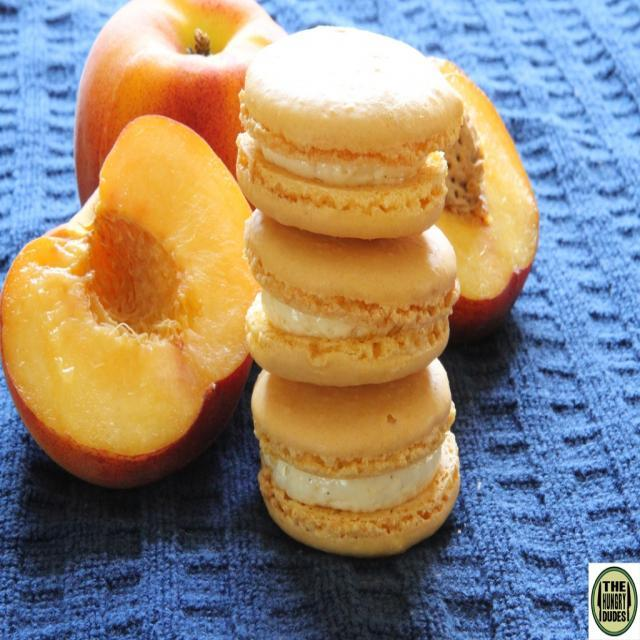Peach: (0, 112, 252, 492), (74, 0, 288, 209), (432, 55, 540, 336)
